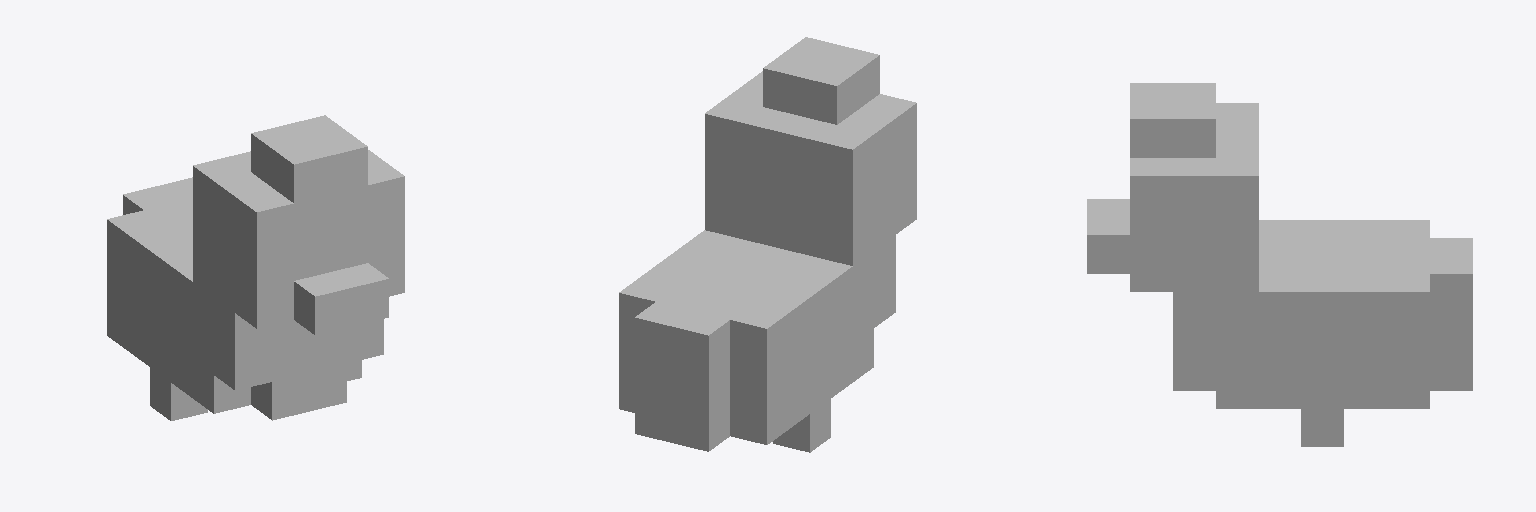
The model's file is Bird.obj.
3 renders of one model, left to right at view 1: azimuth 30°, elevation 25°; view 2: azimuth 150°, elevation 25°; view 3: azimuth 270°, elevation 25°, orthographic.
Parts seen in each view (by area): view 1: object 1; view 2: object 1; view 3: object 1.
Boxes of the visible parts, box(x1,y1,x2,y2) form: object 1: box(107, 115, 404, 420); object 1: box(619, 37, 916, 452); object 1: box(1087, 83, 1472, 446).
Size of the model in its own units: 0.4 by 0.8 by 0.9.